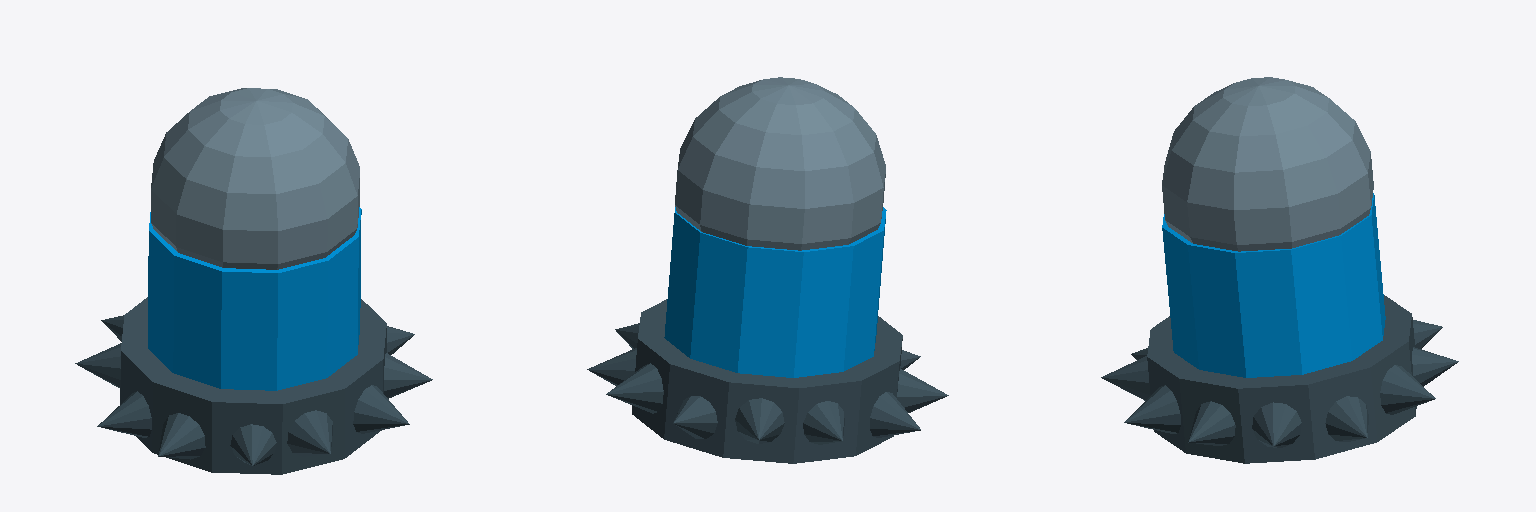
File: ThunkFoot.obj
3 renders of one model, left to right at view 1: azimuth 30°, elevation 25°; view 2: azimuth 150°, elevation 25°; view 3: azimuth 270°, elevation 25°, orthographic.
Parts seen in each view (by area): view 1: group[number redacted], group[number redacted], group[number redacted], group[number redacted], group[number redacted], group[number redacted], group[number redacted], group[number redacted], group[number redacted], group[number redacted]; view 2: group[number redacted], group[number redacted], group[number redacted], group[number redacted], group[number redacted], group[number redacted], group[number redacted], group[number redacted], group[number redacted], group[number redacted]; view 3: group[number redacted], group[number redacted], group[number redacted], group[number redacted], group[number redacted], group[number redacted], group[number redacted], group[number redacted], group[number redacted], group[number redacted].
Boxes of the visible parts, box(x1,y1,x2,y2) form: group[number redacted]: box(151, 88, 359, 269); group[number redacted]: box(148, 207, 361, 390); group[number redacted]: box(120, 297, 386, 474); group[number redacted]: box(287, 410, 332, 456); group[number redacted]: box(158, 413, 205, 459); group[number redacted]: box(353, 385, 409, 433); group[number redacted]: box(97, 391, 151, 437); group[number redacted]: box(230, 424, 276, 465); group[number redacted]: box(384, 353, 432, 398); group[number redacted]: box(75, 343, 121, 387); group[number redacted]: box(675, 77, 885, 250); group[number redacted]: box(664, 207, 886, 377); group[number redacted]: box(632, 299, 902, 463); group[number redacted]: box(735, 398, 784, 443); group[number redacted]: box(606, 363, 663, 413); group[number redacted]: box(803, 401, 844, 444); group[number redacted]: box(870, 392, 920, 437); group[number redacted]: box(673, 396, 717, 438); group[number redacted]: box(897, 369, 948, 412); group[number redacted]: box(587, 348, 636, 385); group[number redacted]: box(1162, 77, 1373, 251); group[number redacted]: box(1162, 193, 1385, 377); group[number redacted]: box(1147, 295, 1416, 463); group[number redacted]: box(1252, 402, 1301, 447); group[number redacted]: box(1380, 365, 1435, 414); group[number redacted]: box(1124, 385, 1180, 433); group[number redacted]: box(1325, 396, 1368, 441); group[number redacted]: box(1188, 401, 1235, 445); group[number redacted]: box(1101, 356, 1150, 400); group[number redacted]: box(1412, 347, 1458, 386).
Size of the model in its own units: 0.3393 by 0.3429 by 0.3371.